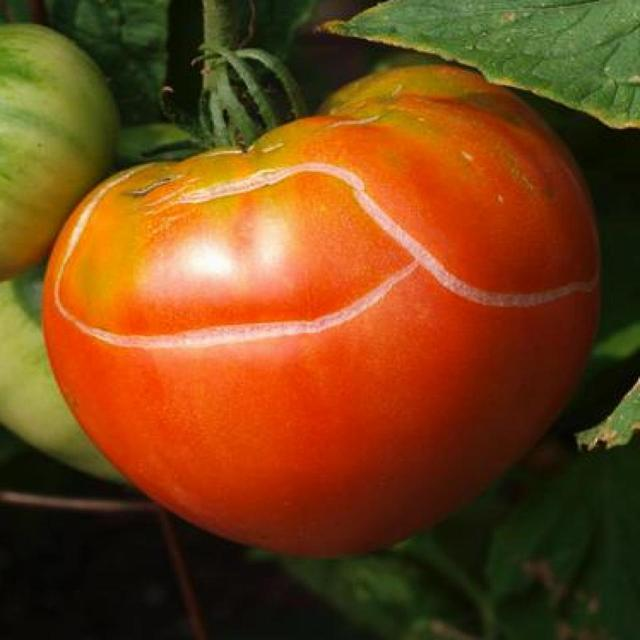Cracking Fruit: (29, 93, 400, 264)
